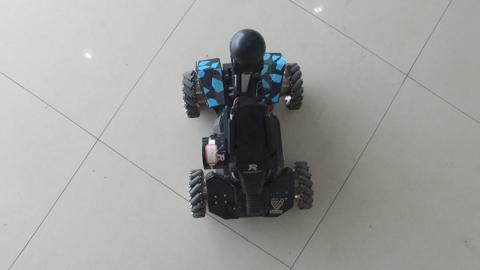chariot: (172, 20, 320, 238)
